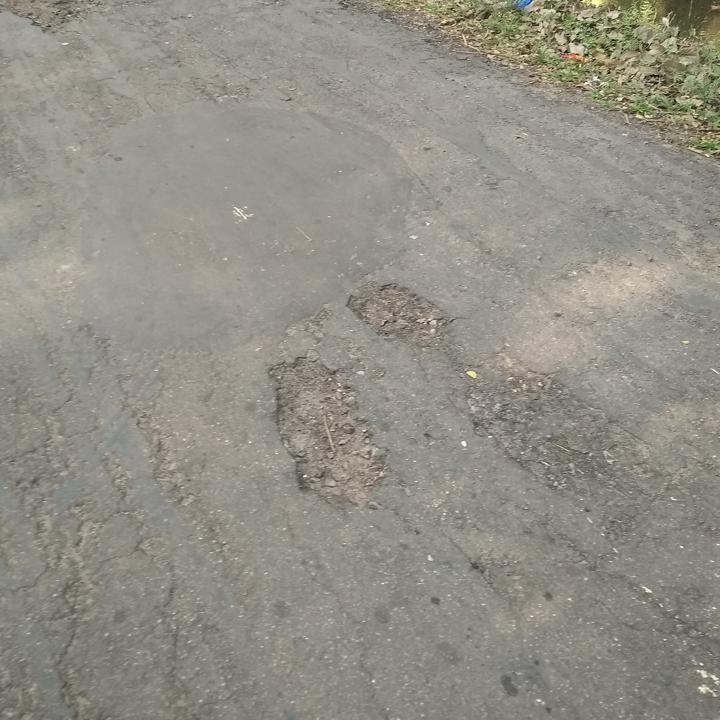pothole: (458, 350, 653, 493), (267, 349, 390, 514), (341, 280, 456, 356), (0, 0, 114, 34)
